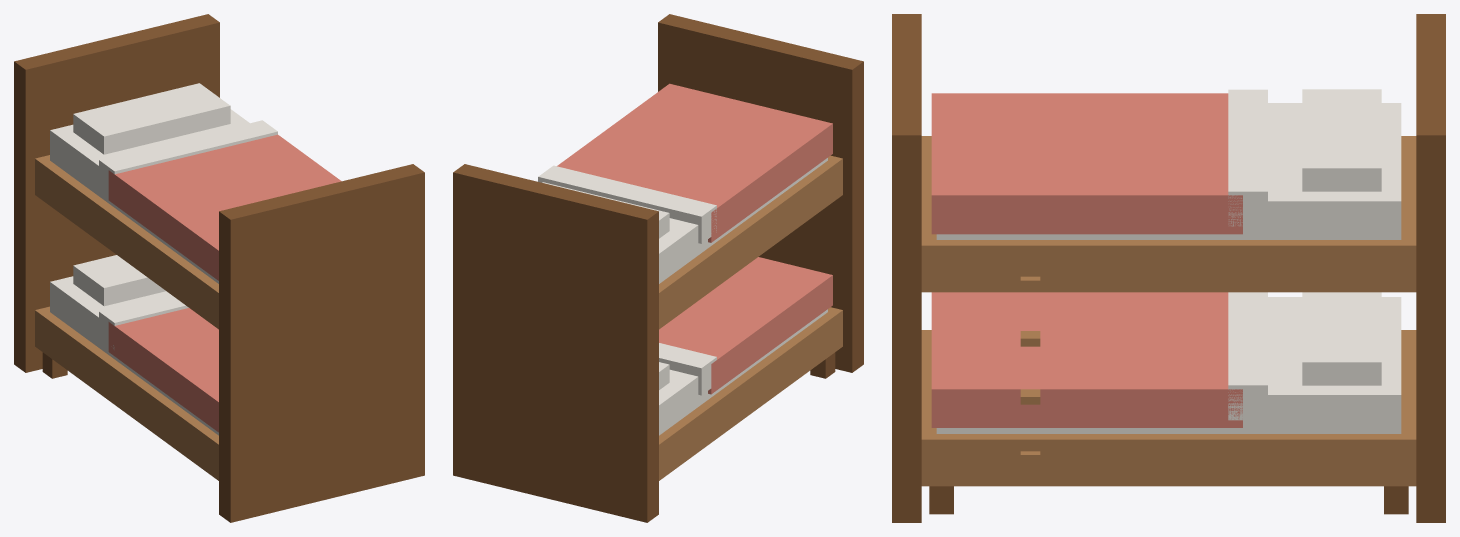
Rendered from bedBunk.glb.
3 views of the same model, side by side, from view 1: azimuth 30°, elevation 25°; view 2: azimuth 150°, elevation 25°; view 3: azimuth 270°, elevation 25° (orthographic). The views are drawn at different scales.
Visible parts, largest first — view 1: bedBunk; view 2: bedBunk; view 3: bedBunk.
Boxes of the visible parts, left/top/right/bottom form: bedBunk: left=14, top=14, right=424, bottom=522; bedBunk: left=453, top=14, right=863, bottom=522; bedBunk: left=892, top=14, right=1445, bottom=522.
Bounding box in the file's own units: 0.57 × 0.85 × 1.1.
Materials: 1 (1 with a texture image).
